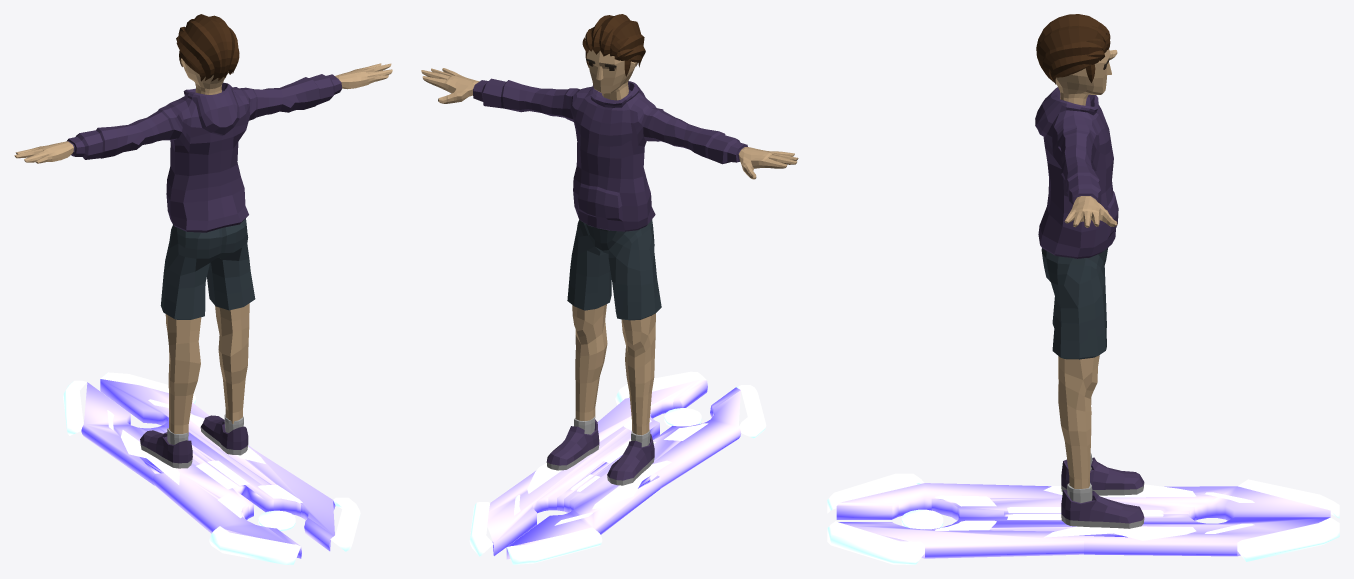
The model's file is Skate.glb.
The picture shows the model from 3 angles, left to right: view 1: azimuth 30°, elevation 25°; view 2: azimuth 150°, elevation 25°; view 3: azimuth 270°, elevation 25°; orthographic projection. The views are drawn at different scales.
Parts seen in each view (by area): view 1: Casual_Body, HoverBoard; view 2: Casual_Body, HoverBoard; view 3: HoverBoard, Casual_Body.
Part boxes in pixels (x1,y1,x2,y2): Casual_Body: (14, 14, 392, 468); HoverBoard: (63, 372, 360, 564); Casual_Body: (421, 14, 798, 485); HoverBoard: (469, 371, 766, 564); HoverBoard: (827, 473, 1339, 564); Casual_Body: (1035, 14, 1144, 528).
Bounding box in the file's own units: 5.7 × 6.64 × 6.02.
